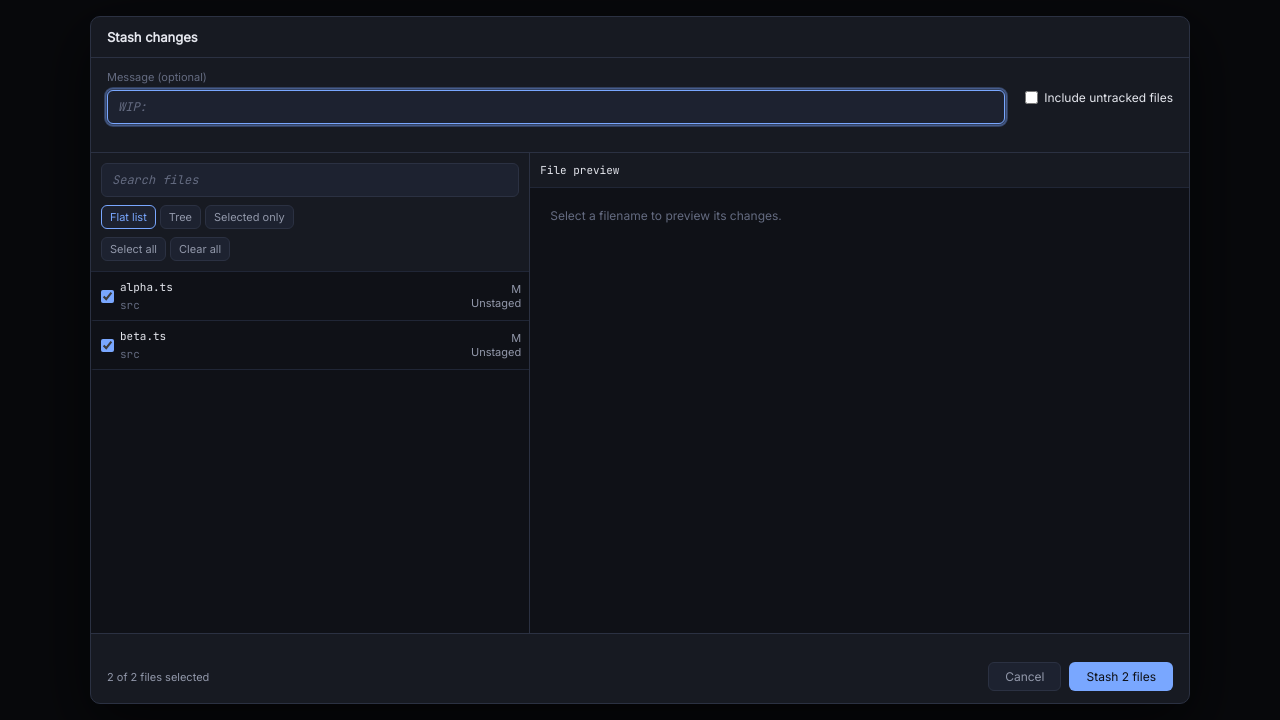
Test: StashPushDialog › ignores a stale preview response after the selected file changes
The image size is (1280, 720).
Check: the text "2 of 2 files selected" is shown, box [107,670,209,684]
Click the button with aria-label "src/alpha.ts". click: click(146, 287)
box: [120,276,465,316]
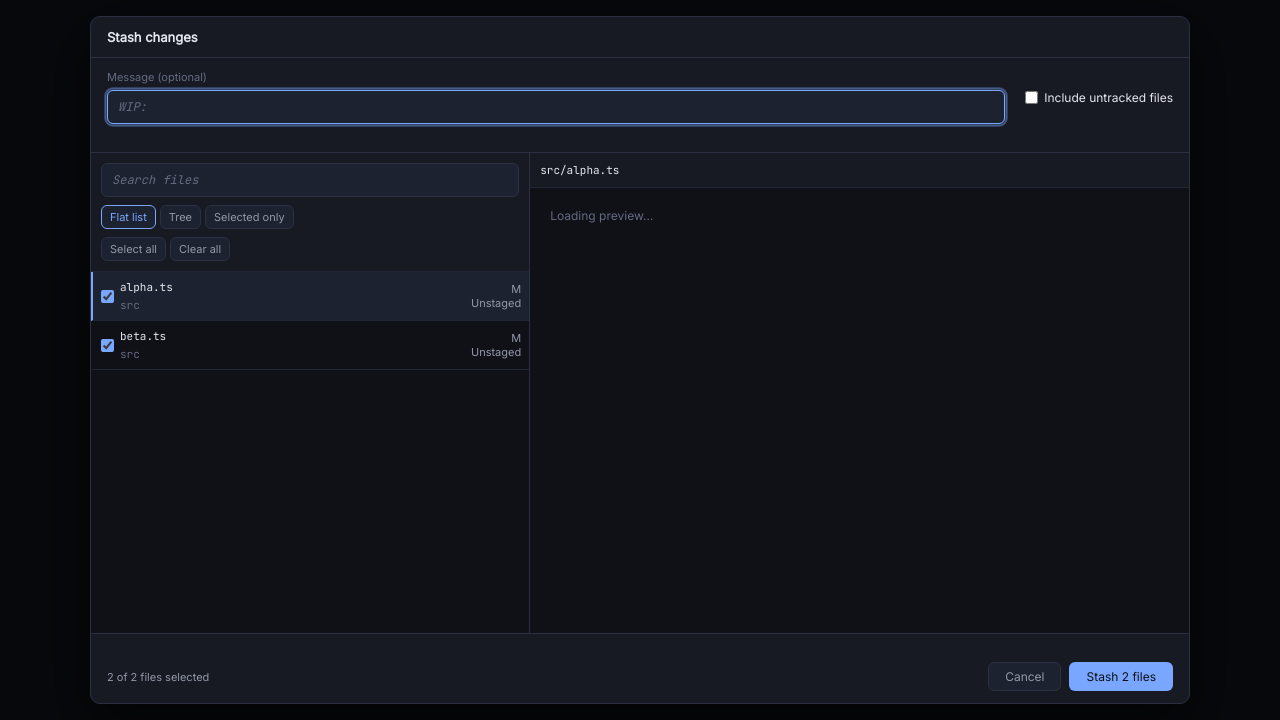
Click the button with aria-label "src/beta.ts". click: click(143, 336)
box: [120,325,465,365]
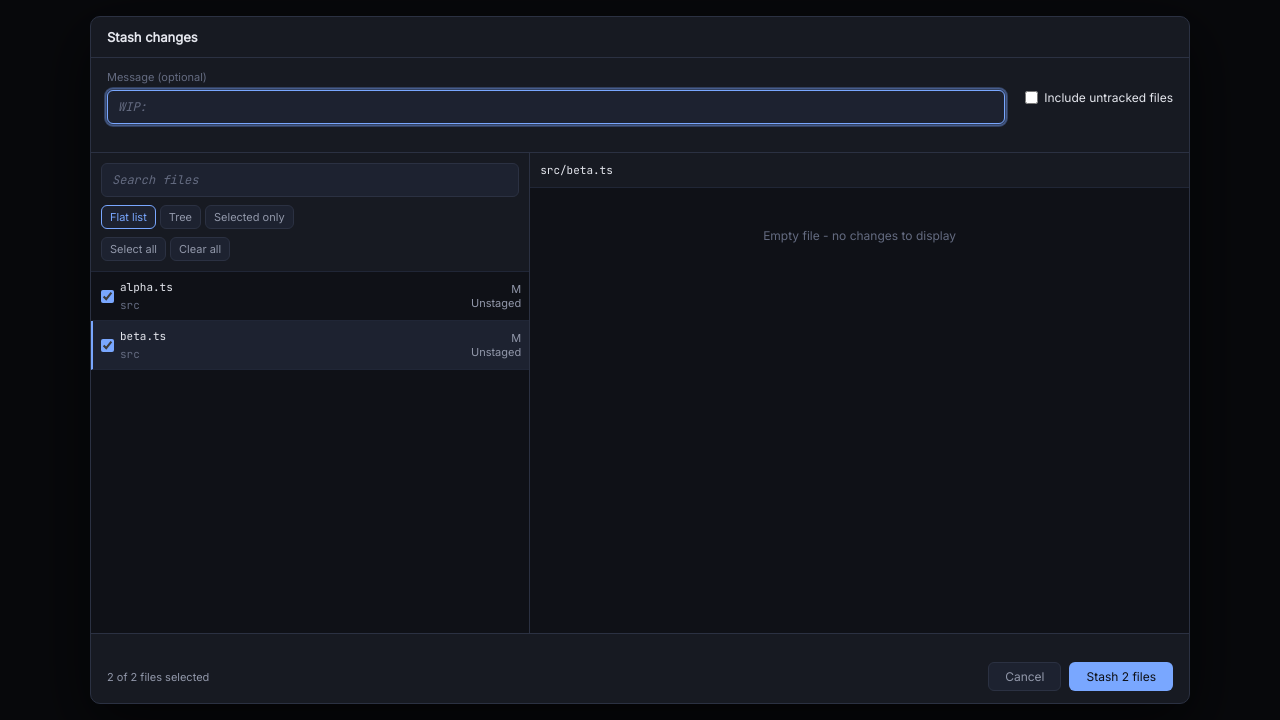
Check: the element named "File preview" shows "src/beta.ts", box [540,163,613,177]
Check: the element named "File preview" no longer shows "src/alpha.ts", box [530,153,1189,633]
